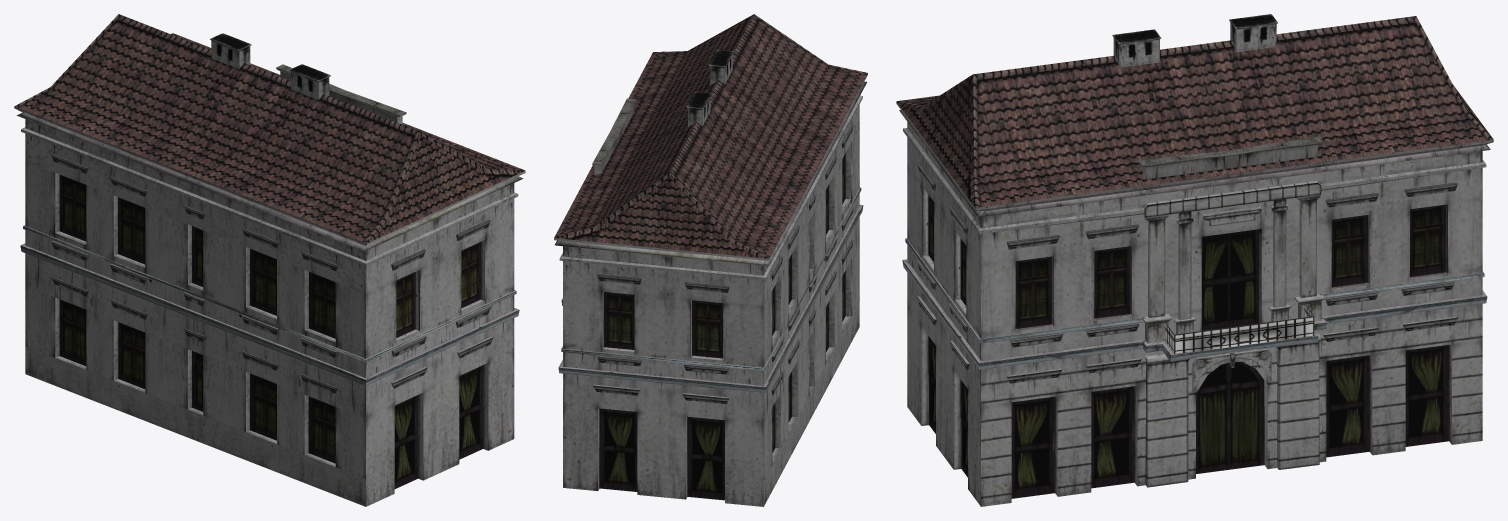
File: building.fbx
3 renders of one model, left to right at view 1: azimuth 30°, elevation 25°; view 2: azimuth 150°, elevation 25°; view 3: azimuth 270°, elevation 25°, orthographic. The views are drawn at different scales.
Visible parts, largest first — view 1: building2; view 2: building2; view 3: building2.
Boxes of the visible parts, left/top/right/bottom form: building2: left=14, top=14, right=525, bottom=506; building2: left=554, top=14, right=867, bottom=506; building2: left=896, top=14, right=1493, bottom=506.
Size of the model in its own units: 154 by 162 by 221.
1 material, 1 textured.
